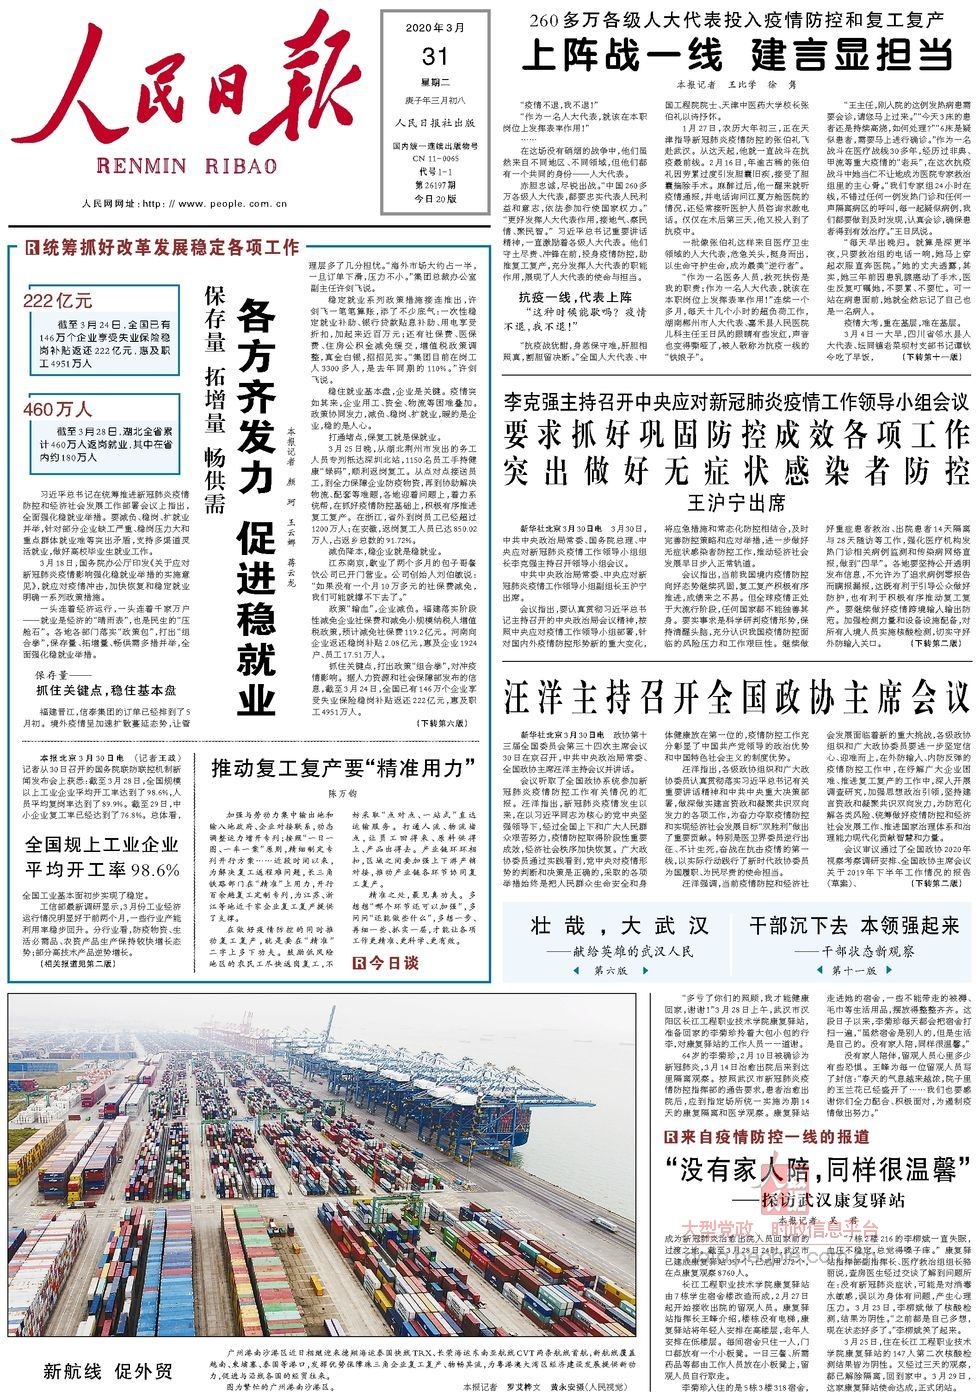pic: (3, 989, 642, 1341)
